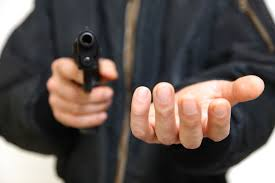gun: (73, 27, 101, 94)
